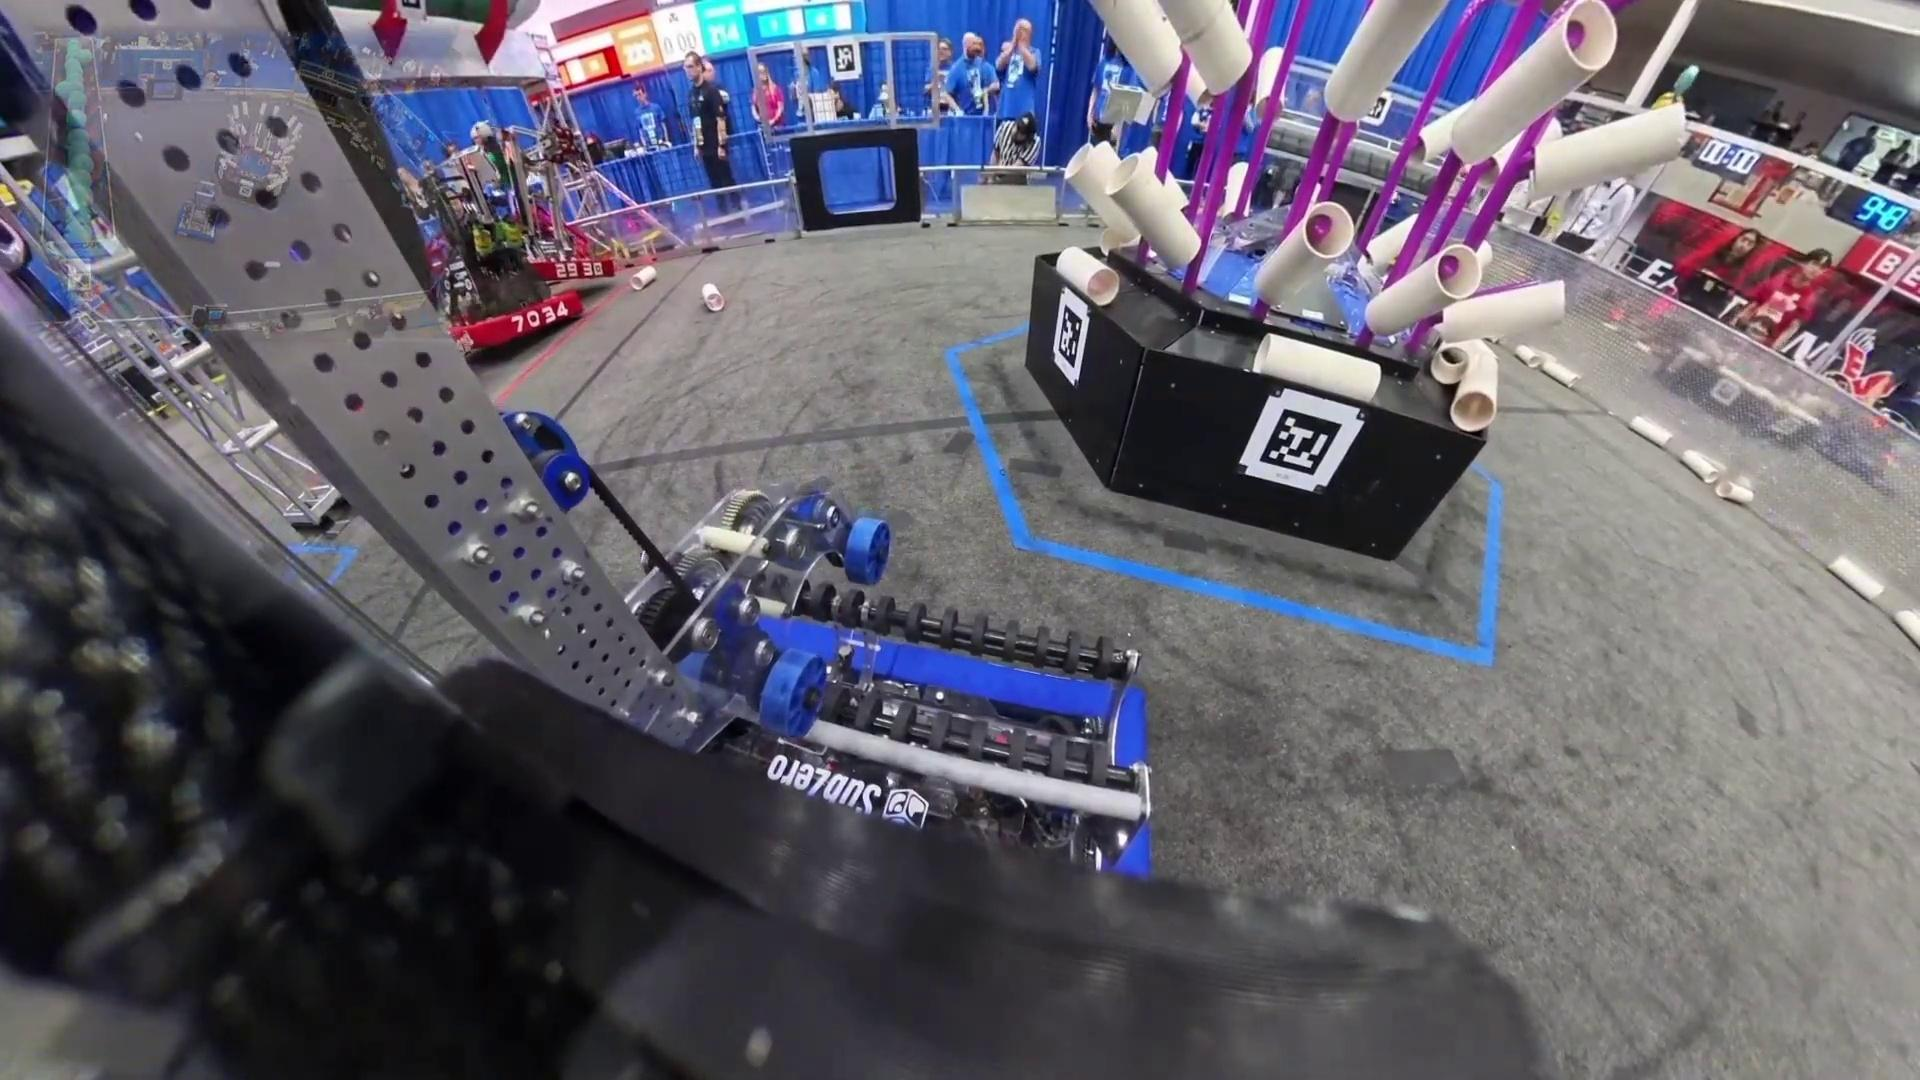robot: (414, 142, 583, 356), (458, 119, 620, 285), (164, 185, 227, 248)
